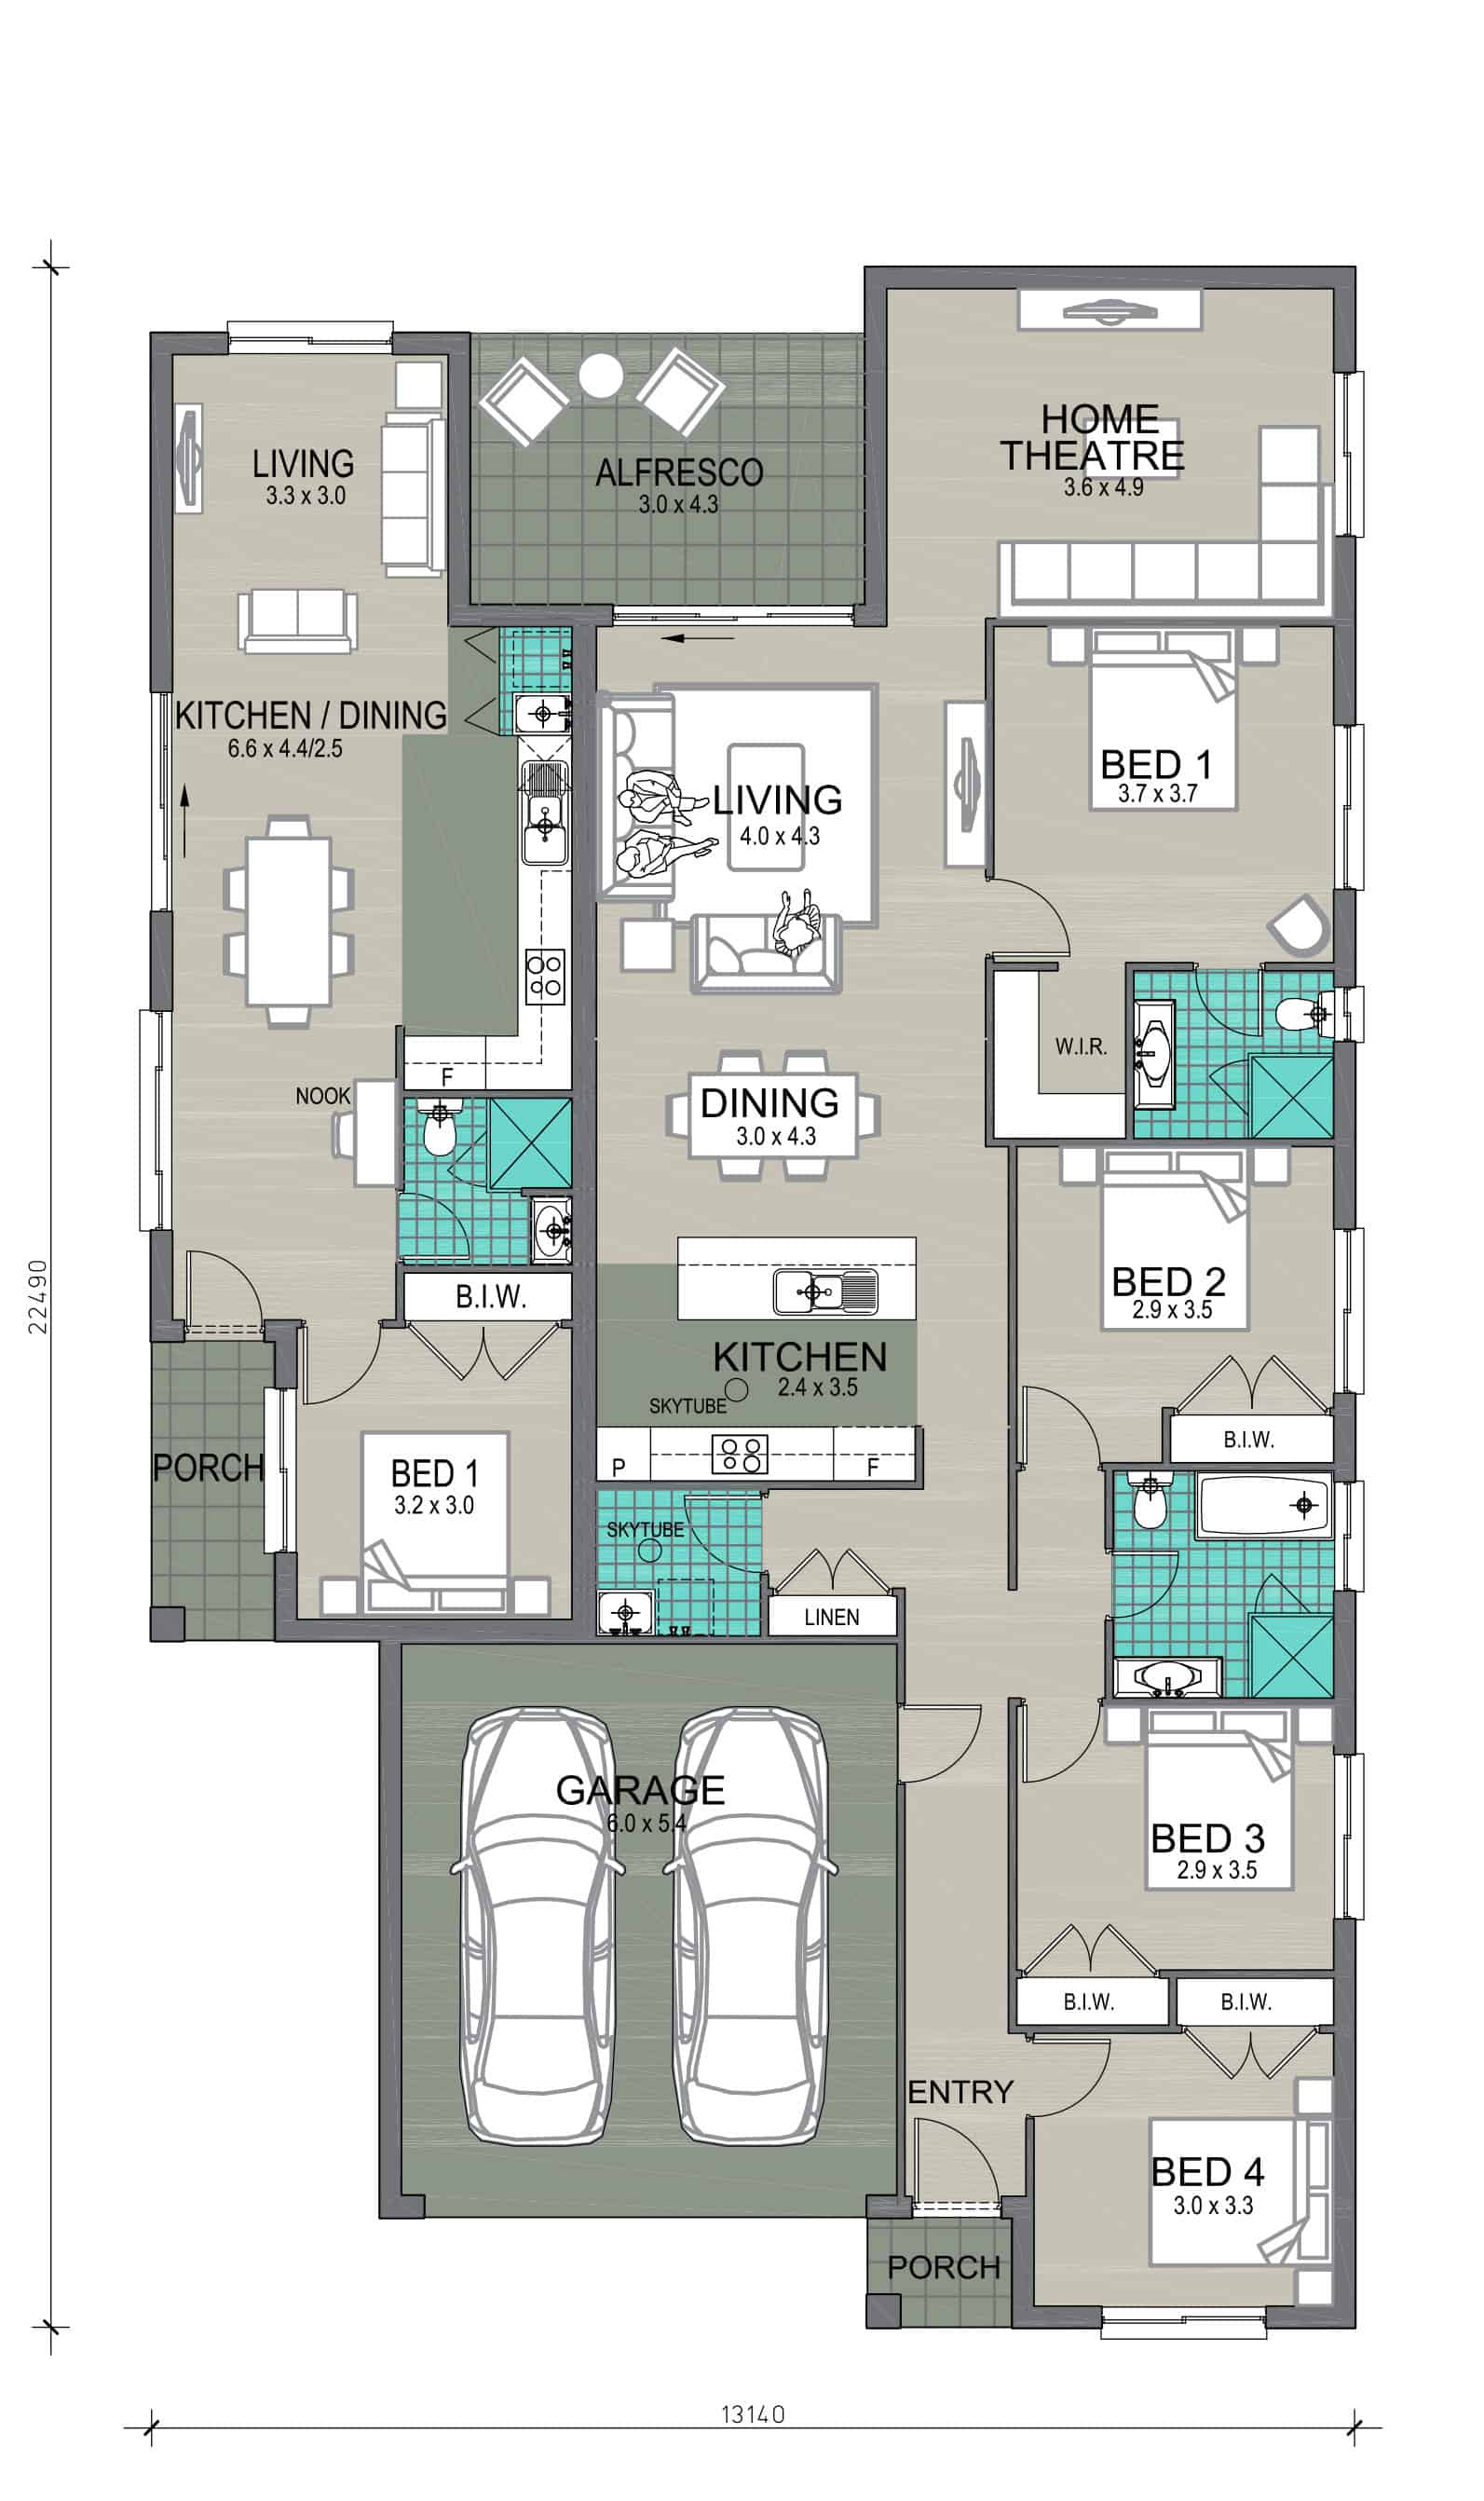door: (424, 1323, 544, 1390), (1032, 1904, 1148, 1973), (1189, 1346, 1313, 1409), (917, 1699, 998, 1779), (180, 1243, 261, 1321), (1046, 2038, 1125, 2116), (1025, 1708, 1104, 1786), (910, 2111, 989, 2188), (678, 1489, 758, 1567), (1000, 878, 1074, 956), (302, 1335, 380, 1409), (1021, 1381, 1102, 1452), (783, 1535, 883, 1590), (1200, 2026, 1293, 2081), (1196, 977, 1268, 1040), (1122, 1547, 1180, 1620), (412, 1194, 472, 1263), (1205, 1060, 1242, 1122), (1249, 1572, 1309, 1609), (449, 1134, 481, 1199), (459, 627, 498, 668), (463, 696, 496, 737)
